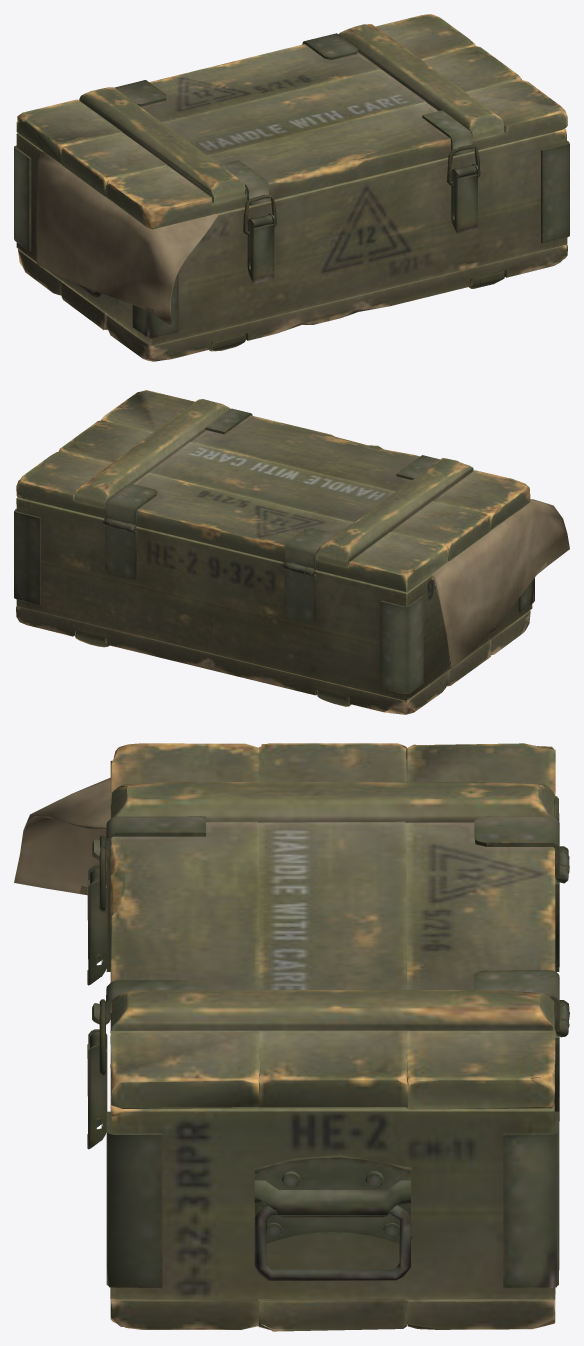
The model's file is distance.fbx.
The picture shows the model from 3 angles, top to bottom: view 1: azimuth 30°, elevation 25°; view 2: azimuth 150°, elevation 25°; view 3: azimuth 270°, elevation 25°; orthographic projection. The views are drawn at different scales.
Parts seen in each view (by area): view 1: old_military_crate_lid_a, old_military_crate_a, old_military_crate_cloth_a, old_military_crate_latch_a, old_military_crate_loop_a; view 2: old_military_crate_lid_a, old_military_crate_a, old_military_crate_cloth_a; view 3: old_military_crate_lid_a, old_military_crate_a, old_military_crate_cloth_a, old_military_crate_latch_a, old_military_crate_loop_a.
Boxes of the visible parts, x1=… form: old_military_crate_lid_a: x1=16, y1=14, x2=567, y2=229; old_military_crate_a: x1=14, y1=128, x2=569, y2=361; old_military_crate_cloth_a: x1=36, y1=151, x2=219, y2=324; old_military_crate_latch_a: x1=247, y1=163, x2=477, y2=283; old_military_crate_loop_a: x1=243, y1=144, x2=480, y2=234; old_military_crate_lid_a: x1=16, y1=390, x2=530, y2=592; old_military_crate_a: x1=14, y1=497, x2=534, y2=714; old_military_crate_cloth_a: x1=431, y1=499, x2=569, y2=668; old_military_crate_lid_a: x1=92, y1=743, x2=569, y2=1109; old_military_crate_a: x1=106, y1=796, x2=569, y2=1331; old_military_crate_cloth_a: x1=14, y1=777, x2=110, y2=895; old_military_crate_latch_a: x1=87, y1=865, x2=107, y2=1149; old_military_crate_loop_a: x1=99, y1=835, x2=105, y2=1075.
Bounding box in the file's own units: 81.57 × 30.04 × 53.81.
